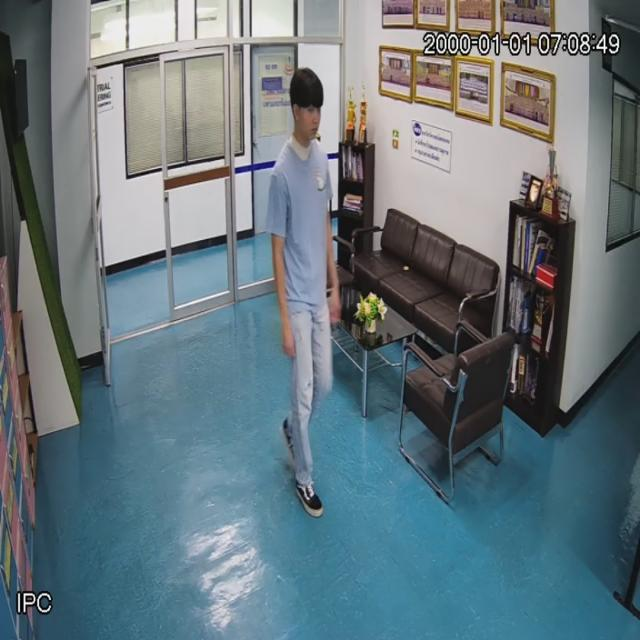normal: (269, 62, 344, 532)
